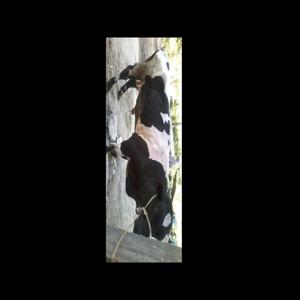lumpy skin diesease: (106, 46, 177, 243)
